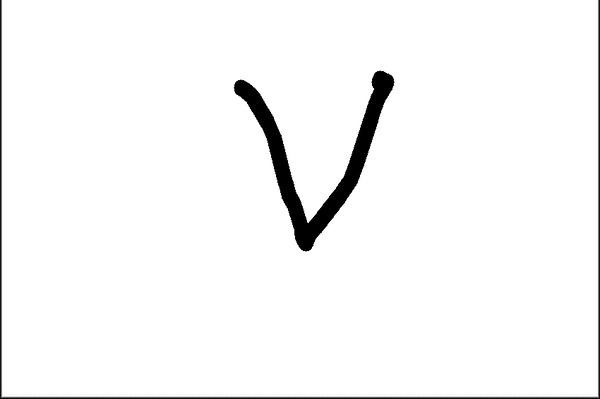V: (221, 61, 400, 261)
